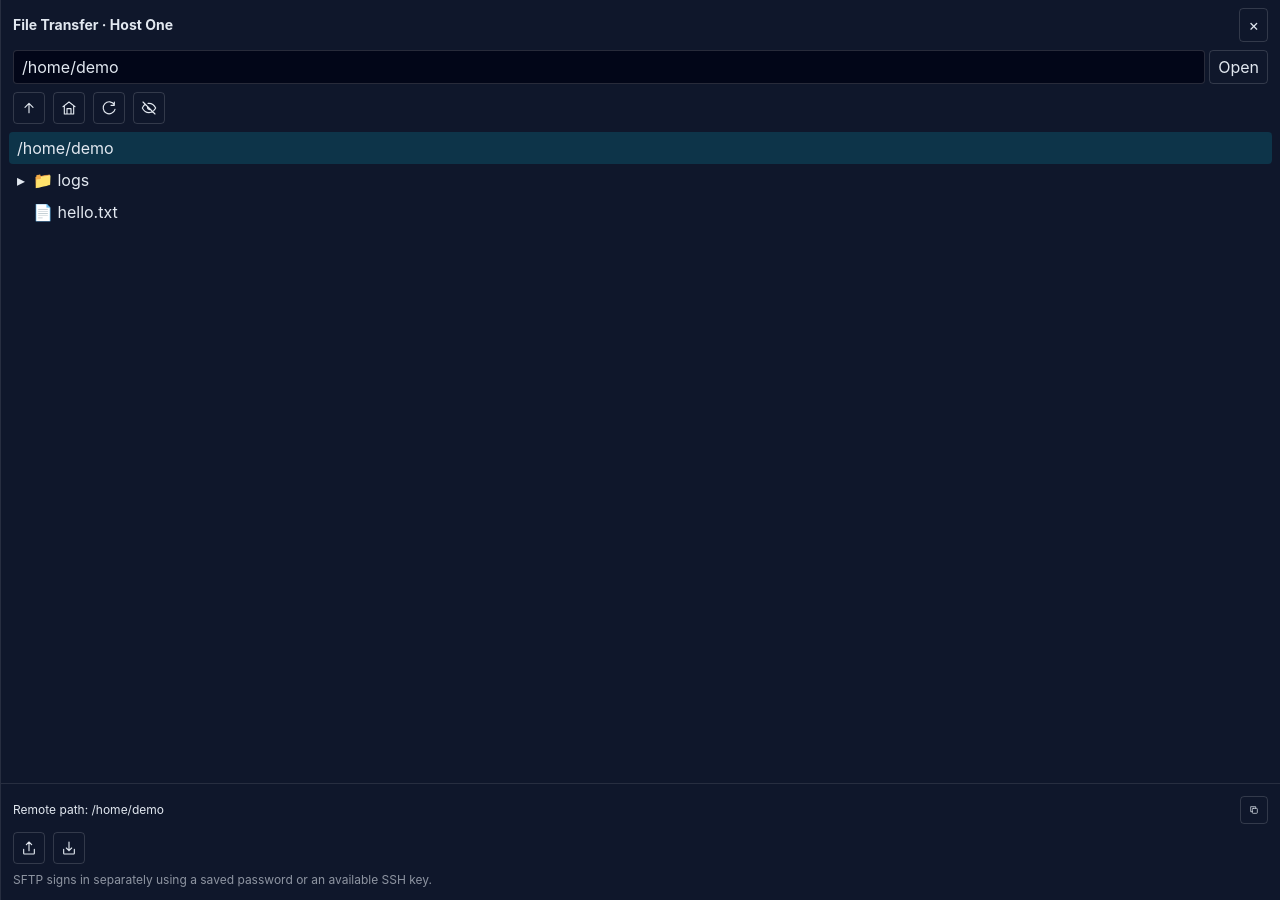
Test: RemoteFilePanel › resets the tree at the canonical directory on Open and uses it for parent navigation
Click the button named "Open logs": (21, 180) [9,164,33,196]
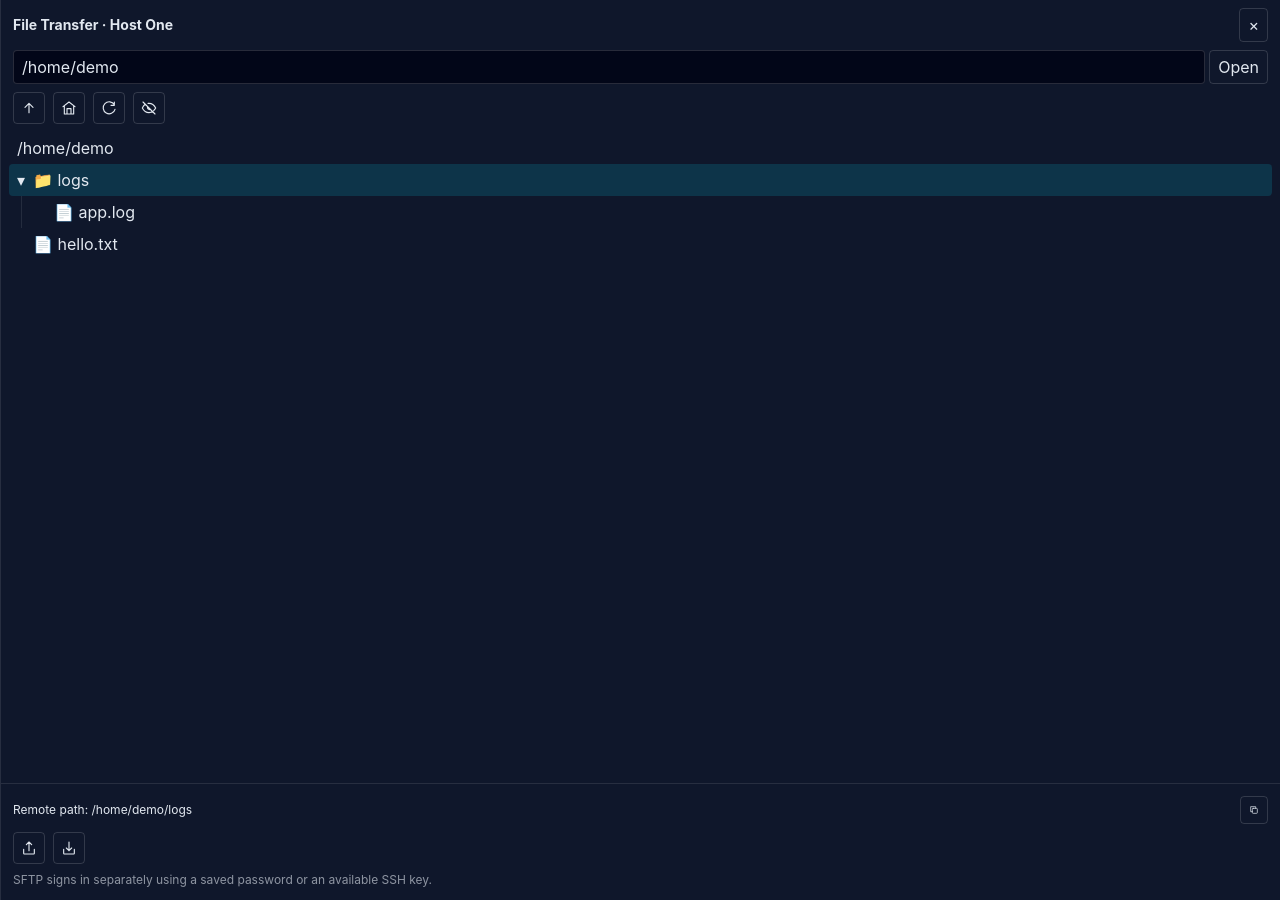
Result: the button "📄 app.log" is shown at [54,196,1272,228]
Replace the text in the field named "Remote path" with "/home/demo/./logs/": (609, 67) [13,50,1205,84]
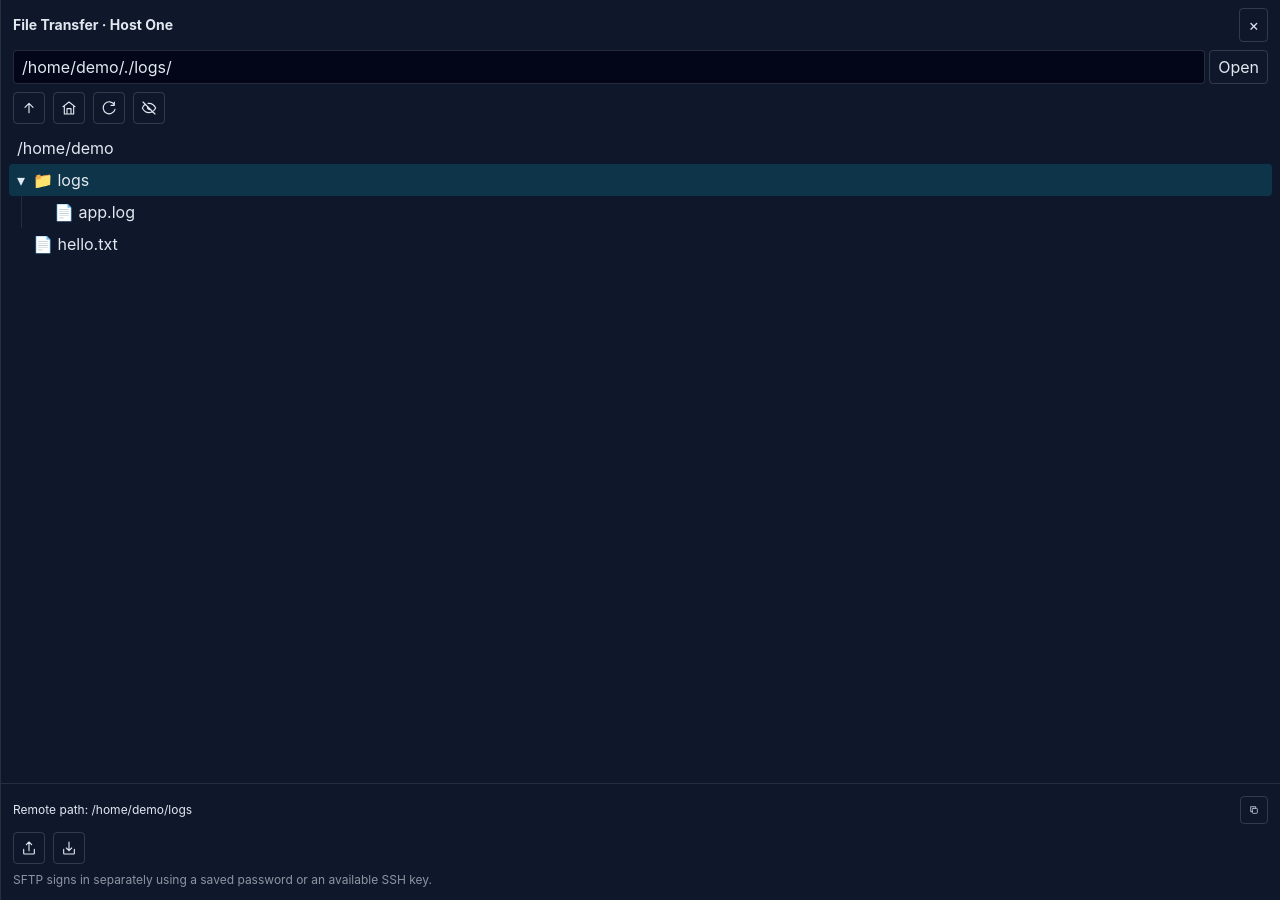
Click the button "Open": (1239, 67) [1209,50,1268,84]
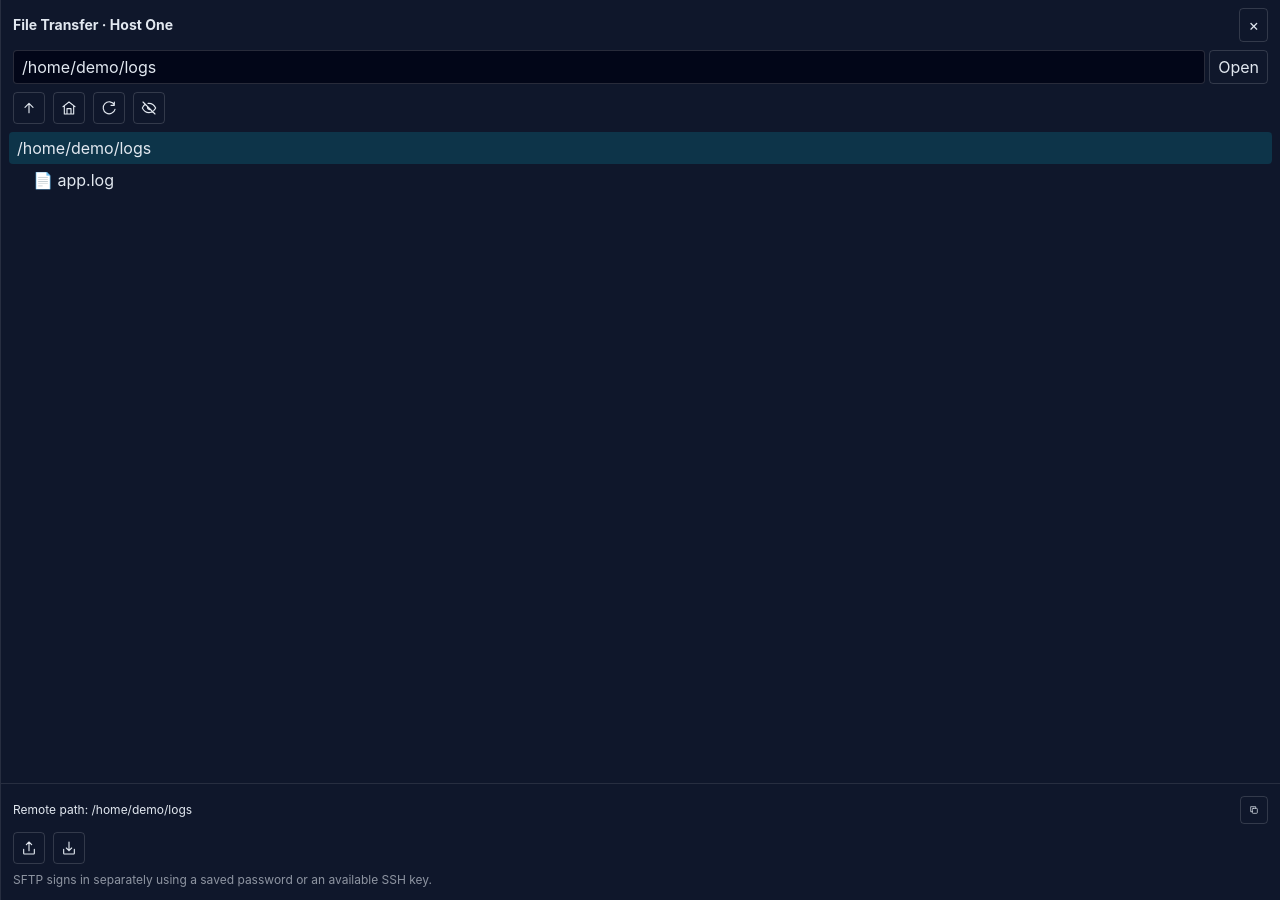
Result: the button "📄 app.log" is shown at [33,164,1272,196]
Result: the field named "Remote path" holds "/home/demo/logs" at [13,50,1205,84]
Result: the button "/home/demo/logs" is shown at [9,132,1272,164]
Click the button named "Up to parent folder": (29, 108) [13,92,45,124]
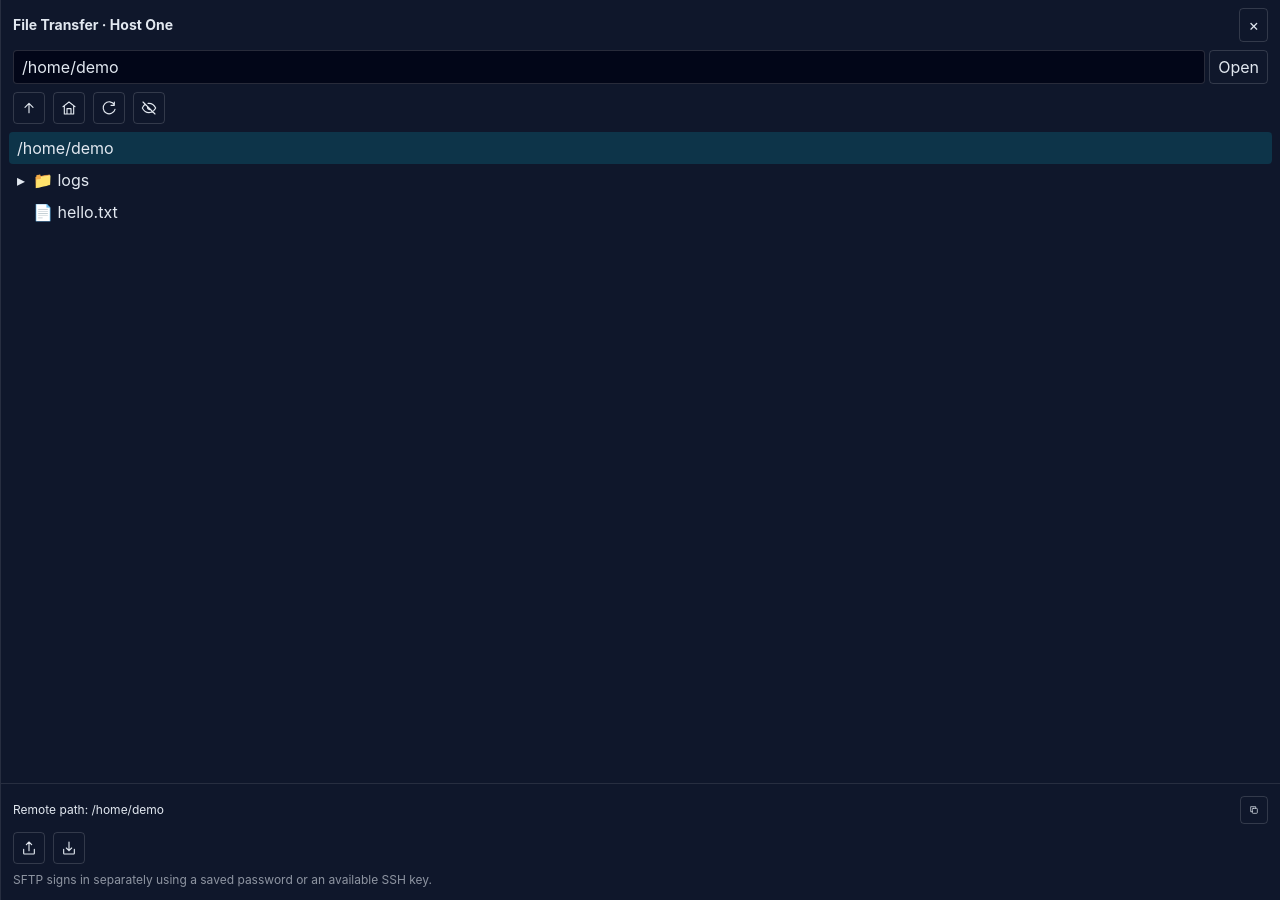
Result: the field named "Remote path" holds "/home/demo" at [13,50,1205,84]
